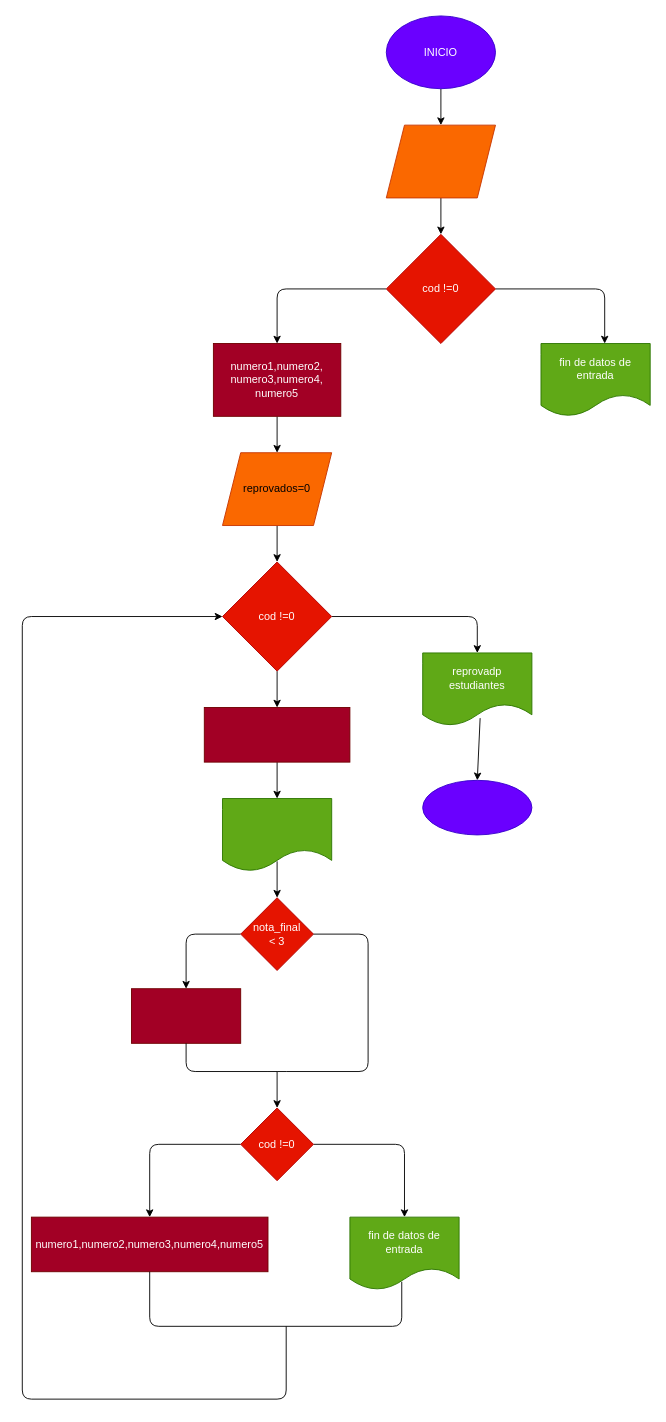
Some shapes in this 666 by 1422 pixel diagram are drawn without their labels. The shapes that lost their labels are listed below. From the top down, each one's centre as x and y in pixels, then its label:
the point at 440,161: cod estudiantes=0
the point at 276,734: nota_final=(nota1+nota2 +nota3+nota4+nota5)/5
the point at 477,807: FIN
the point at 277,834: cod nota_final
the point at 186,1015: reprovados= reprovados+1
